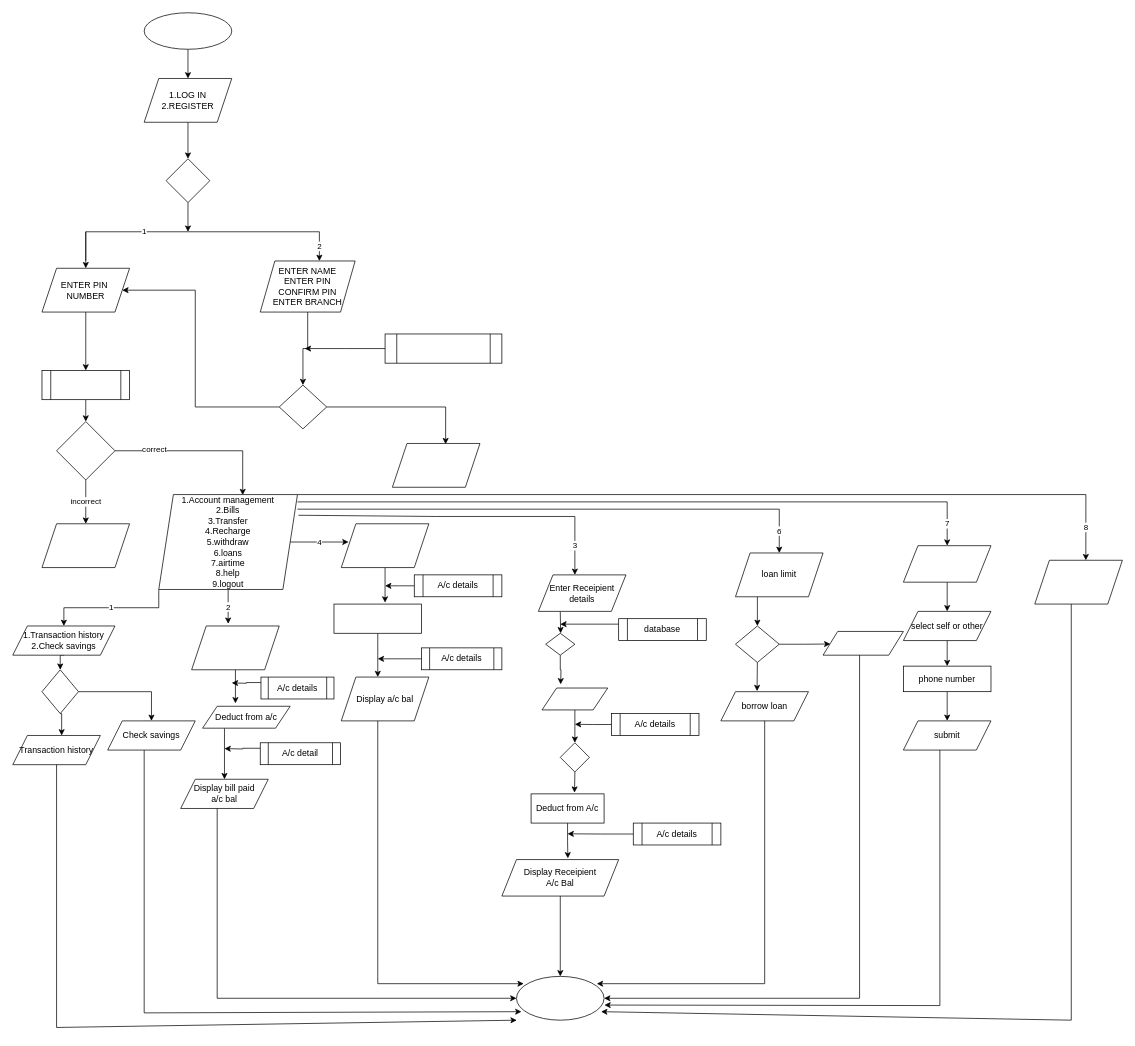
Image size: 1135x1046. Some labels were removed from this diagram. Here are the shapes that lost their labels. From the top down, the centre of each, then its label:
the point at 187,30: START
the point at 443,348: CUSTOMER DETAILS
the point at 85,385: AUTHENTICATE
the point at 436,465: A/C ALREADY EXISTS
the point at 85,545: INCORRECT PIN RESET
the point at 385,545: Enter amount to deposit
the point at 947,563: select line
the point at 1078,582: click on the system link for support
the point at 377,618: increment a/c amt
the point at 235,647: Display bills select bills to pay
the point at 862,643: Not allowed
the point at 574,698: Amount
the point at 560,998: STOP
